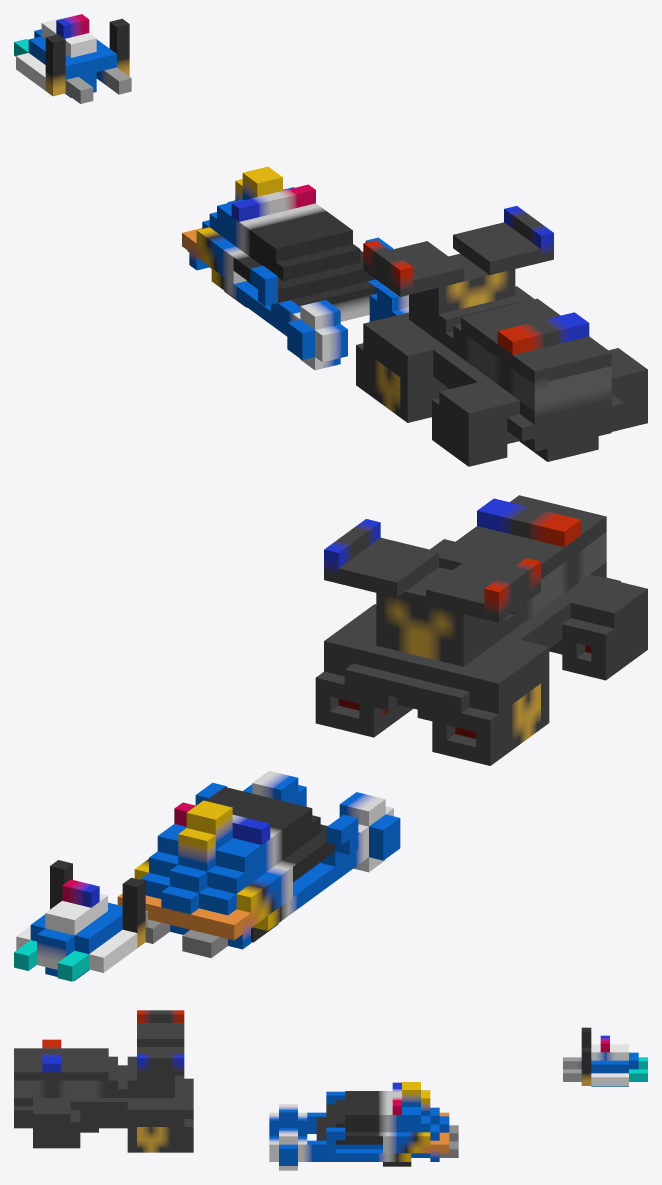
Rendered from police_ships.dae.
3 views of the same model, one above another, from view 1: azimuth 30°, elevation 25°; view 2: azimuth 150°, elevation 25°; view 3: azimuth 270°, elevation 25° (orthographic). The views are drawn at different scales.
Parts seen in each view (by area): view 1: swat_ship, police_ship, police_drone; view 2: swat_ship, police_ship, police_drone; view 3: swat_ship, police_ship, police_drone.
Boxes of the visible parts, box(x1,y1,x2,y2) form: swat_ship: box(356, 206, 647, 466); police_ship: box(182, 166, 408, 370); police_drone: box(14, 14, 131, 103); swat_ship: box(315, 495, 647, 765); police_ship: box(117, 770, 400, 957); police_drone: box(14, 860, 147, 981); swat_ship: box(14, 1010, 193, 1152); police_ship: box(269, 1082, 458, 1170); police_drone: box(563, 1027, 647, 1086).
Size of the model in its own units: 14 by 14 by 67.
Materials: 1 (1 with a texture image).
